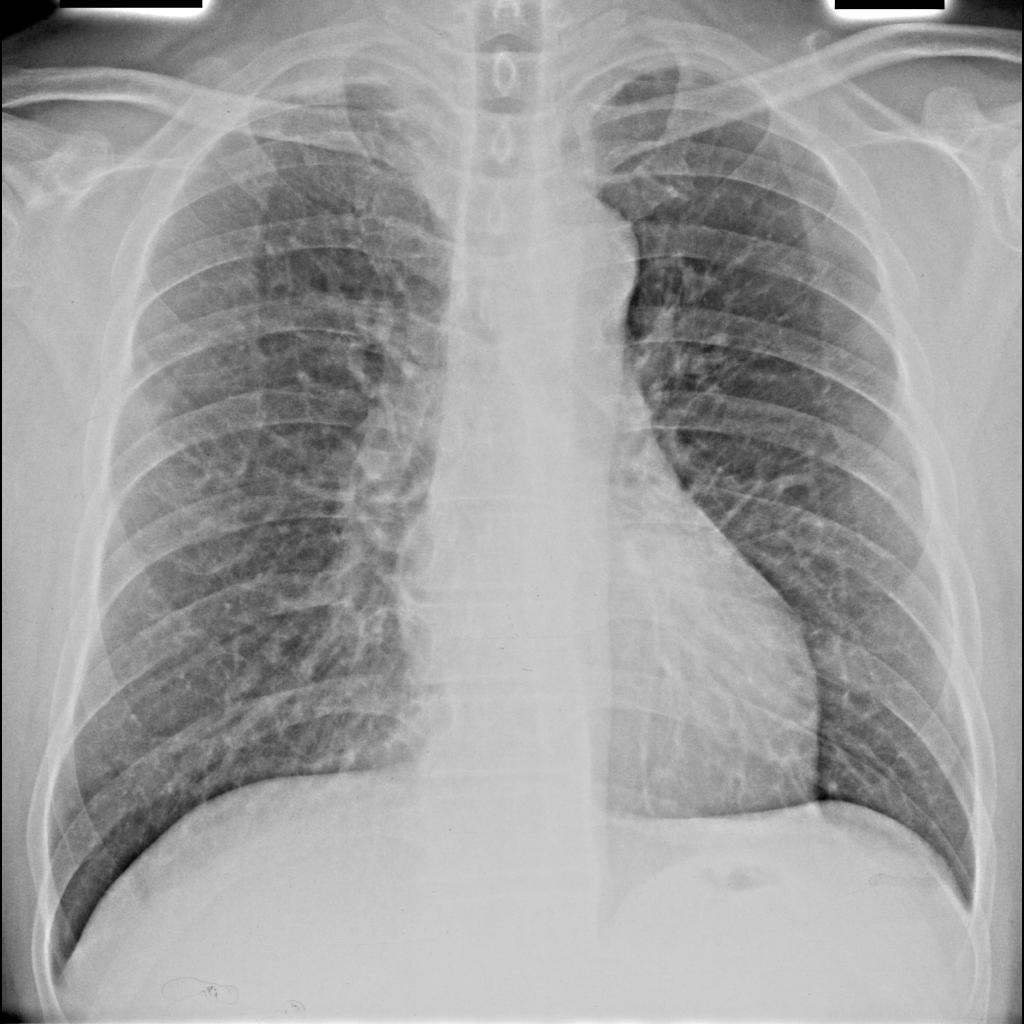Nodule: (617, 517, 713, 613)
